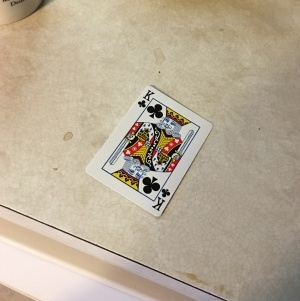card: (86, 85, 213, 216)
